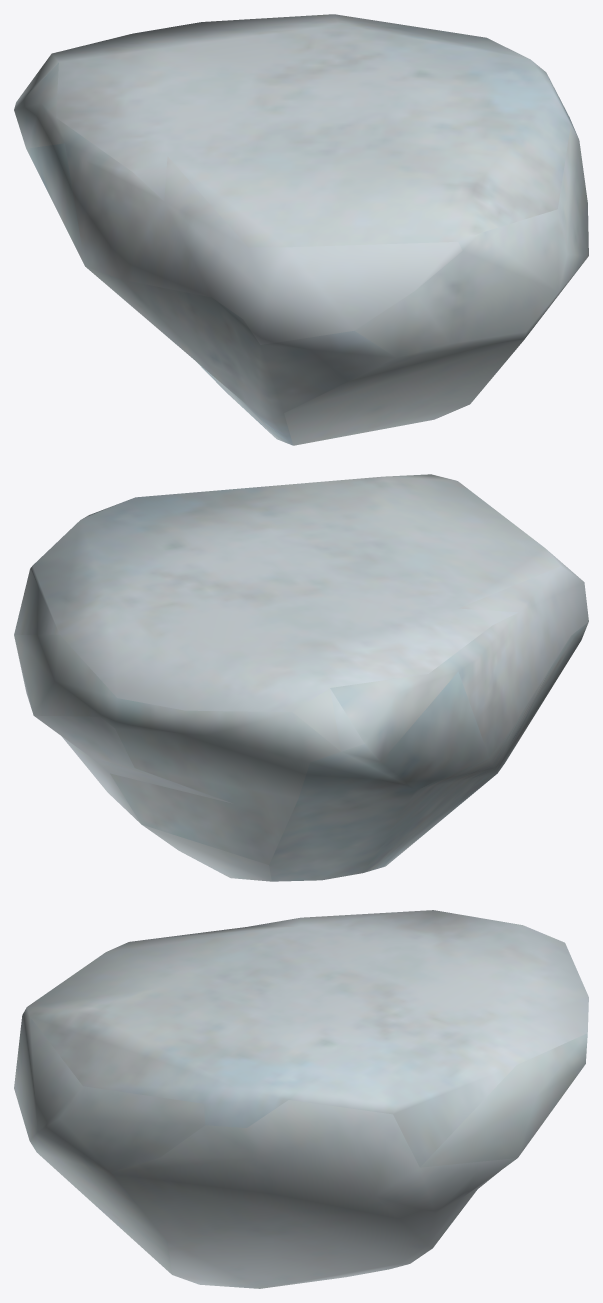
The model's file is P_RockClassic14.obj.
3 views of the same model, one above another, from view 1: azimuth 30°, elevation 25°; view 2: azimuth 150°, elevation 25°; view 3: azimuth 270°, elevation 25° (orthographic). The views are drawn at different scales.
Size of the model in its own units: 2.87 by 1.93 by 3.48.
